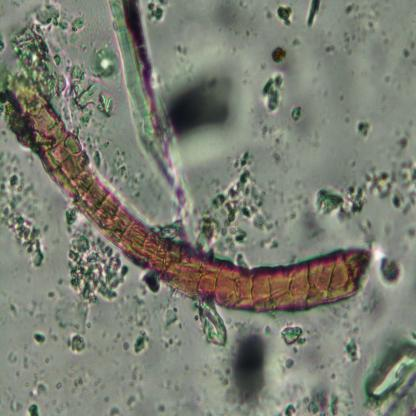Background material: (196, 148, 271, 258), (312, 157, 416, 227), (165, 58, 242, 144), (16, 2, 82, 102), (60, 204, 126, 304), (216, 318, 276, 414), (68, 46, 124, 142), (0, 153, 45, 269), (362, 342, 416, 414), (277, 319, 330, 376), (339, 0, 384, 56), (282, 194, 325, 249), (280, 381, 347, 415), (57, 298, 93, 358), (112, 146, 148, 200), (124, 291, 152, 358), (257, 117, 292, 169), (194, 301, 229, 349), (211, 0, 254, 37), (371, 247, 405, 289), (358, 282, 388, 323), (0, 27, 11, 126), (160, 306, 185, 349), (261, 70, 284, 115), (124, 366, 145, 410), (342, 332, 362, 366), (272, 1, 295, 30), (147, 0, 173, 23), (142, 270, 162, 298), (31, 372, 48, 404), (304, 0, 322, 29), (5, 298, 24, 320), (401, 40, 416, 67), (268, 45, 288, 65), (31, 327, 50, 347), (396, 126, 412, 148), (290, 103, 304, 126), (357, 119, 372, 139), (8, 396, 23, 413), (9, 352, 22, 366), (108, 403, 122, 414), (29, 403, 40, 415), (47, 289, 57, 300)
Cellulose filter fibre: (110, 1, 193, 224)
Hair textile: (10, 77, 364, 322)
